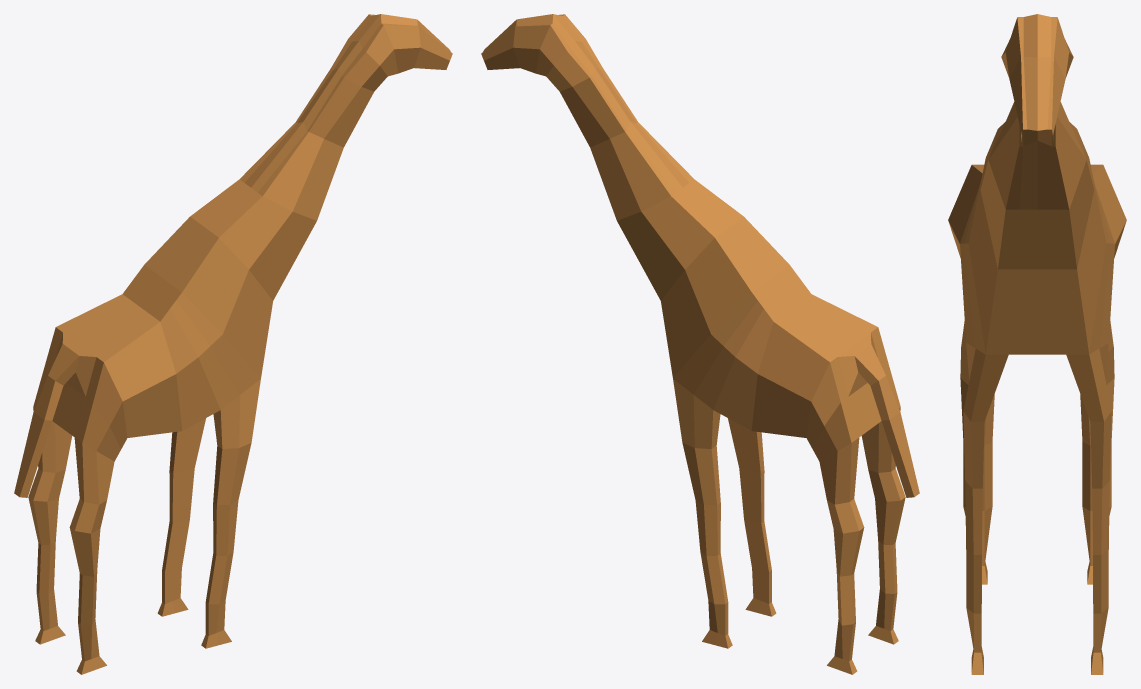
File: giraffe.gltf
3 renders of one model, left to right at view 1: azimuth 30°, elevation 25°; view 2: azimuth 150°, elevation 25°; view 3: azimuth 270°, elevation 25°, orthographic. The views are drawn at different scales.
Parts seen in each view (by area): view 1: Cube; view 2: Cube; view 3: Cube.
Boxes of the visible parts, left/top/right/bottom form: Cube: left=14, top=14, right=452, bottom=674; Cube: left=481, top=14, right=919, bottom=674; Cube: left=948, top=14, right=1126, bottom=674.
Size of the model in its own units: 7.92 by 9.95 by 2.07.
